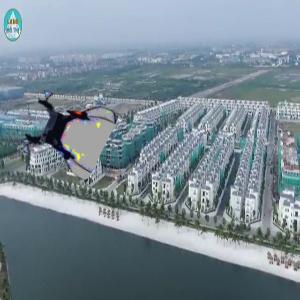drone: (24, 91, 108, 175)
